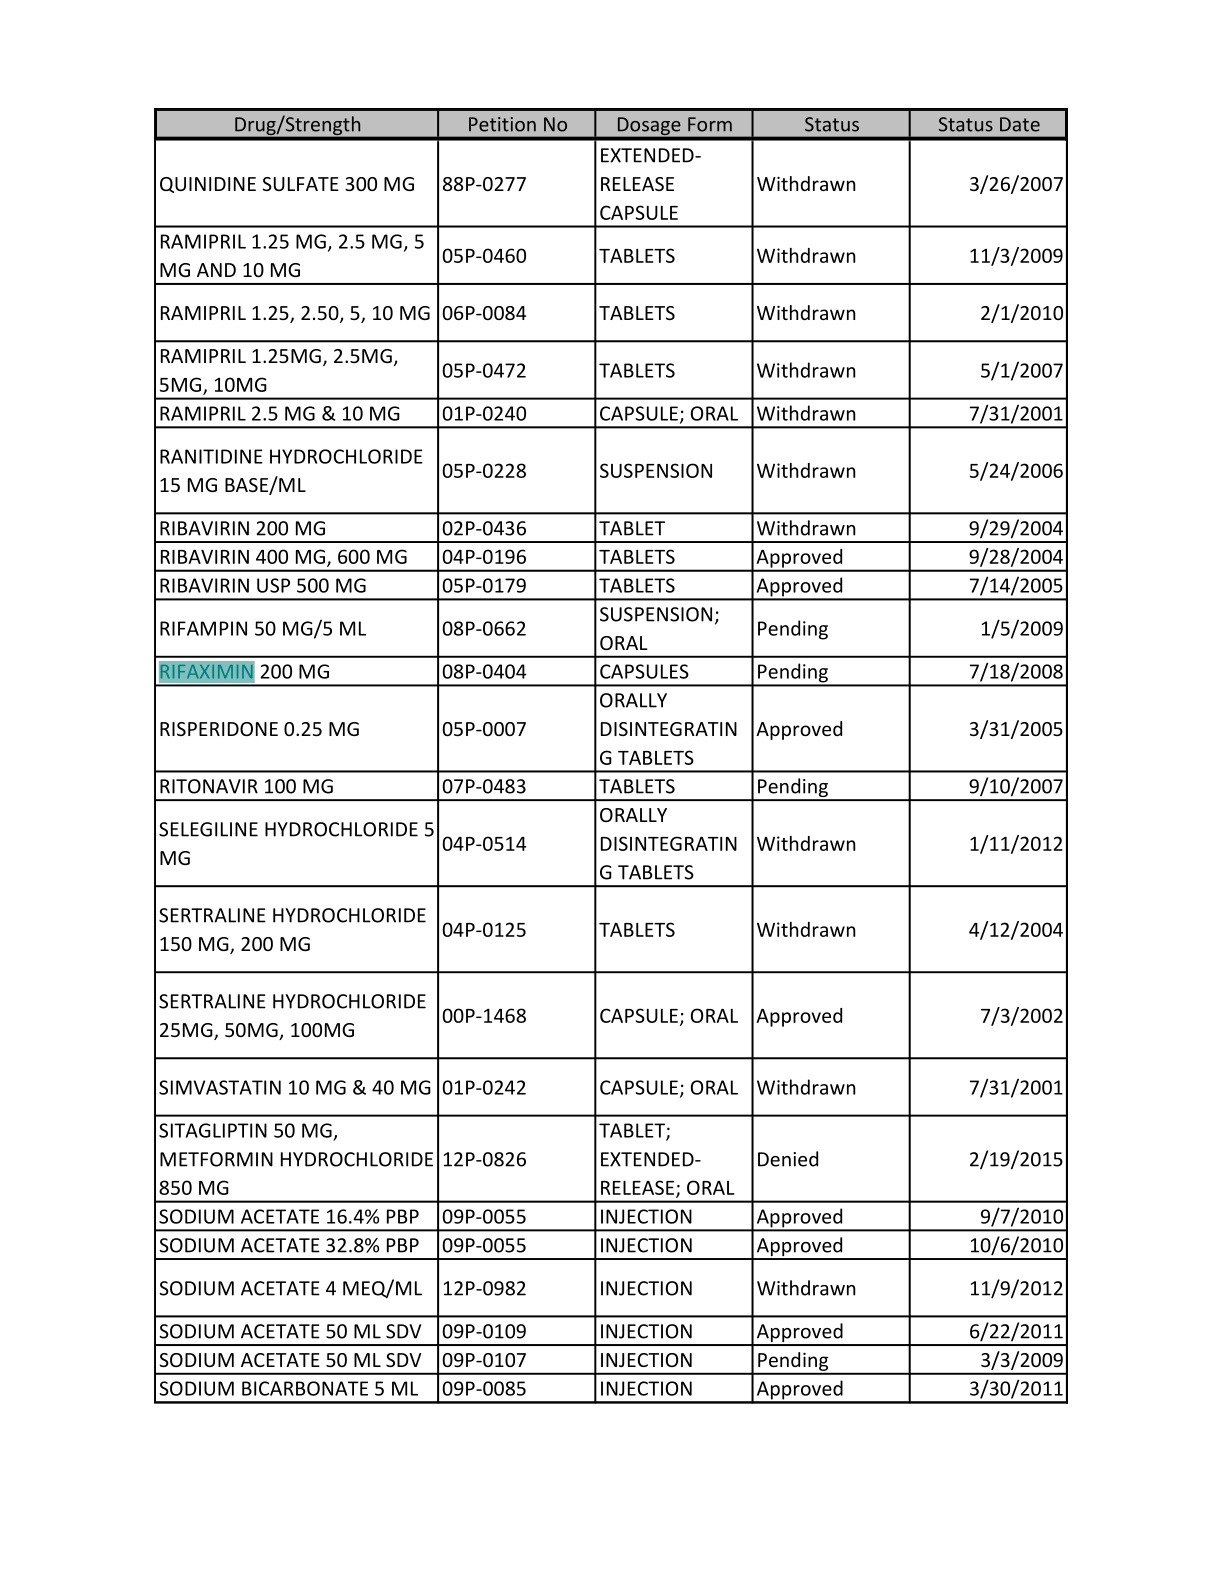full_lined: (152, 107, 1068, 1405)
